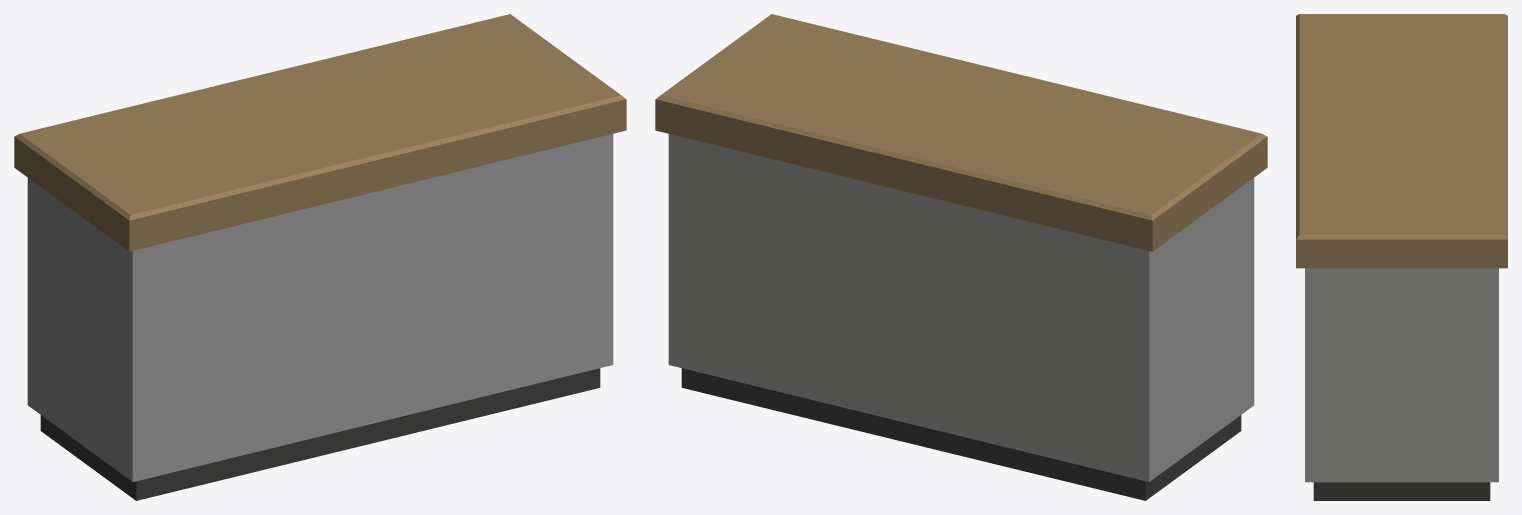
File: SM_Props_Interior_Shop_Counter_01.fbx
The picture shows the model from 3 angles, left to right: view 1: azimuth 30°, elevation 25°; view 2: azimuth 150°, elevation 25°; view 3: azimuth 270°, elevation 25°; orthographic projection. The views are drawn at different scales.
Visible parts, largest first — view 1: SM_Props_Interior_Shop_Counter_01; view 2: SM_Props_Interior_Shop_Counter_01; view 3: SM_Props_Interior_Shop_Counter_01.
Boxes of the visible parts, box(x1,y1,x2,y2) form: SM_Props_Interior_Shop_Counter_01: box(14, 14, 626, 500); SM_Props_Interior_Shop_Counter_01: box(655, 14, 1267, 500); SM_Props_Interior_Shop_Counter_01: box(1296, 14, 1507, 500).
Bounding box in the file's own units: 150 × 85 × 60.
